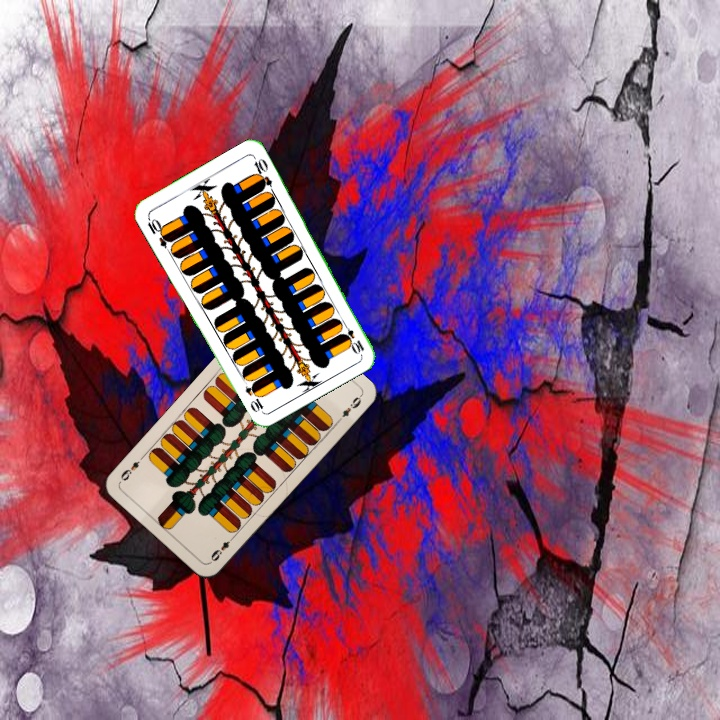E10: (143, 213, 174, 250), (338, 318, 367, 356)
E9: (206, 532, 237, 565)
